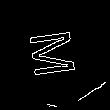M_E: (29, 27, 85, 80)
